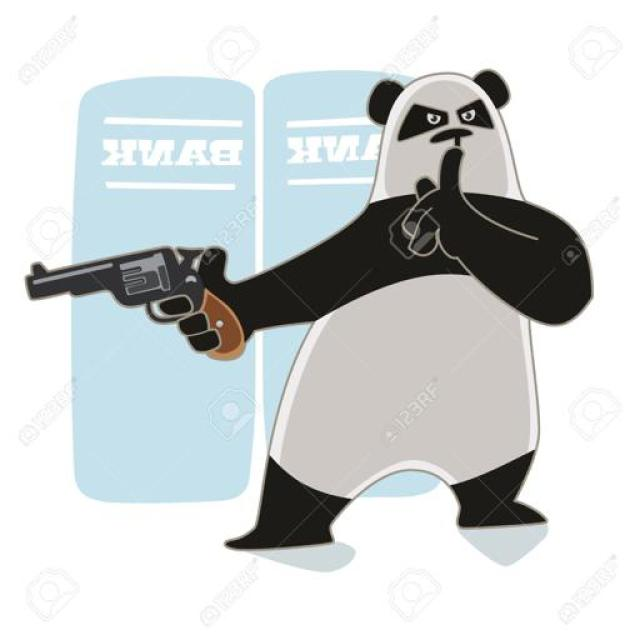pistol: (25, 245, 246, 361)
